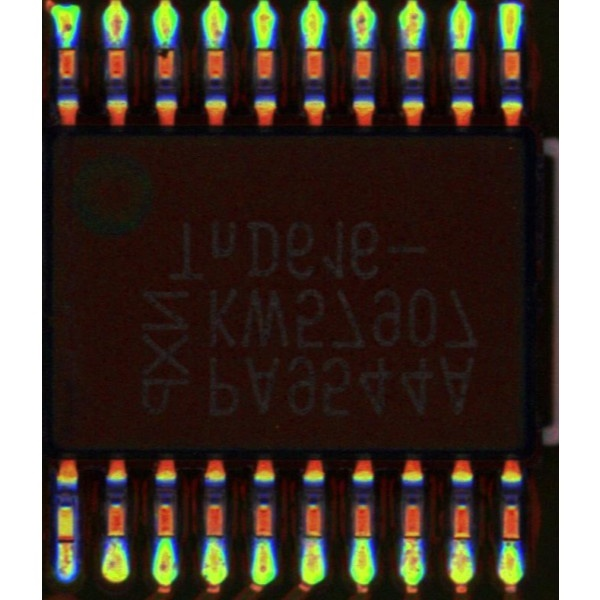Bad_podu: (59, 530, 74, 556), (407, 528, 420, 550)
